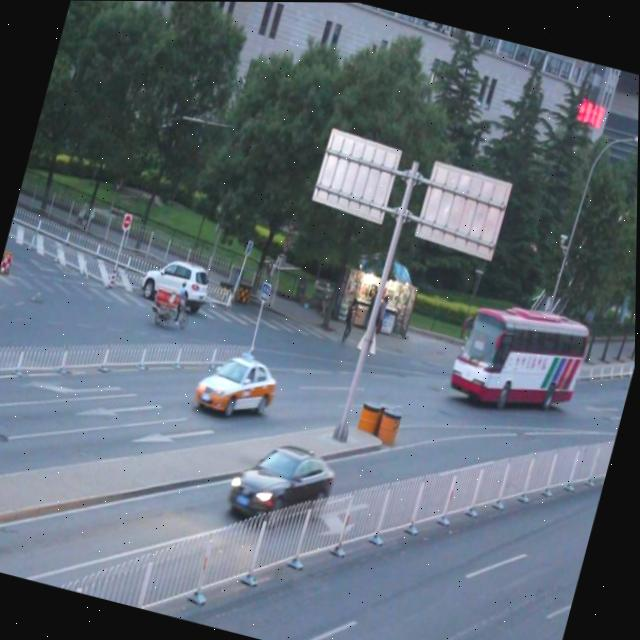car: (225, 428, 342, 535), (194, 347, 282, 423), (137, 255, 215, 322)
van: (449, 295, 591, 420)
